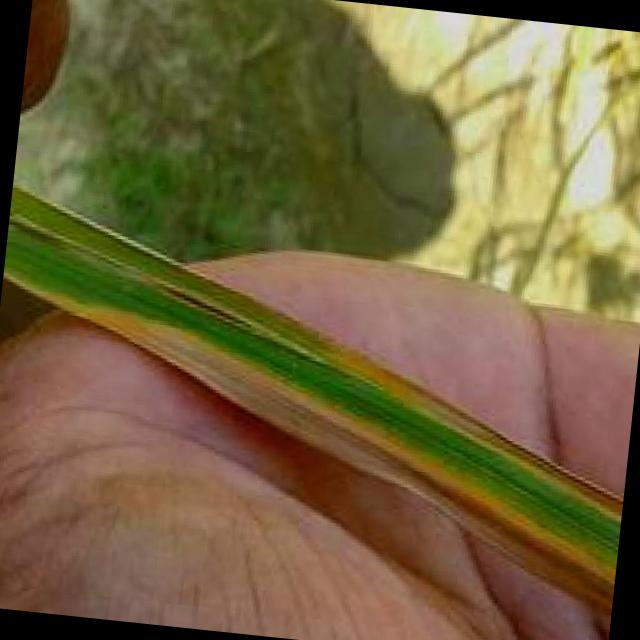Rice_Bacterial_Blight: (18, 180, 584, 563)
